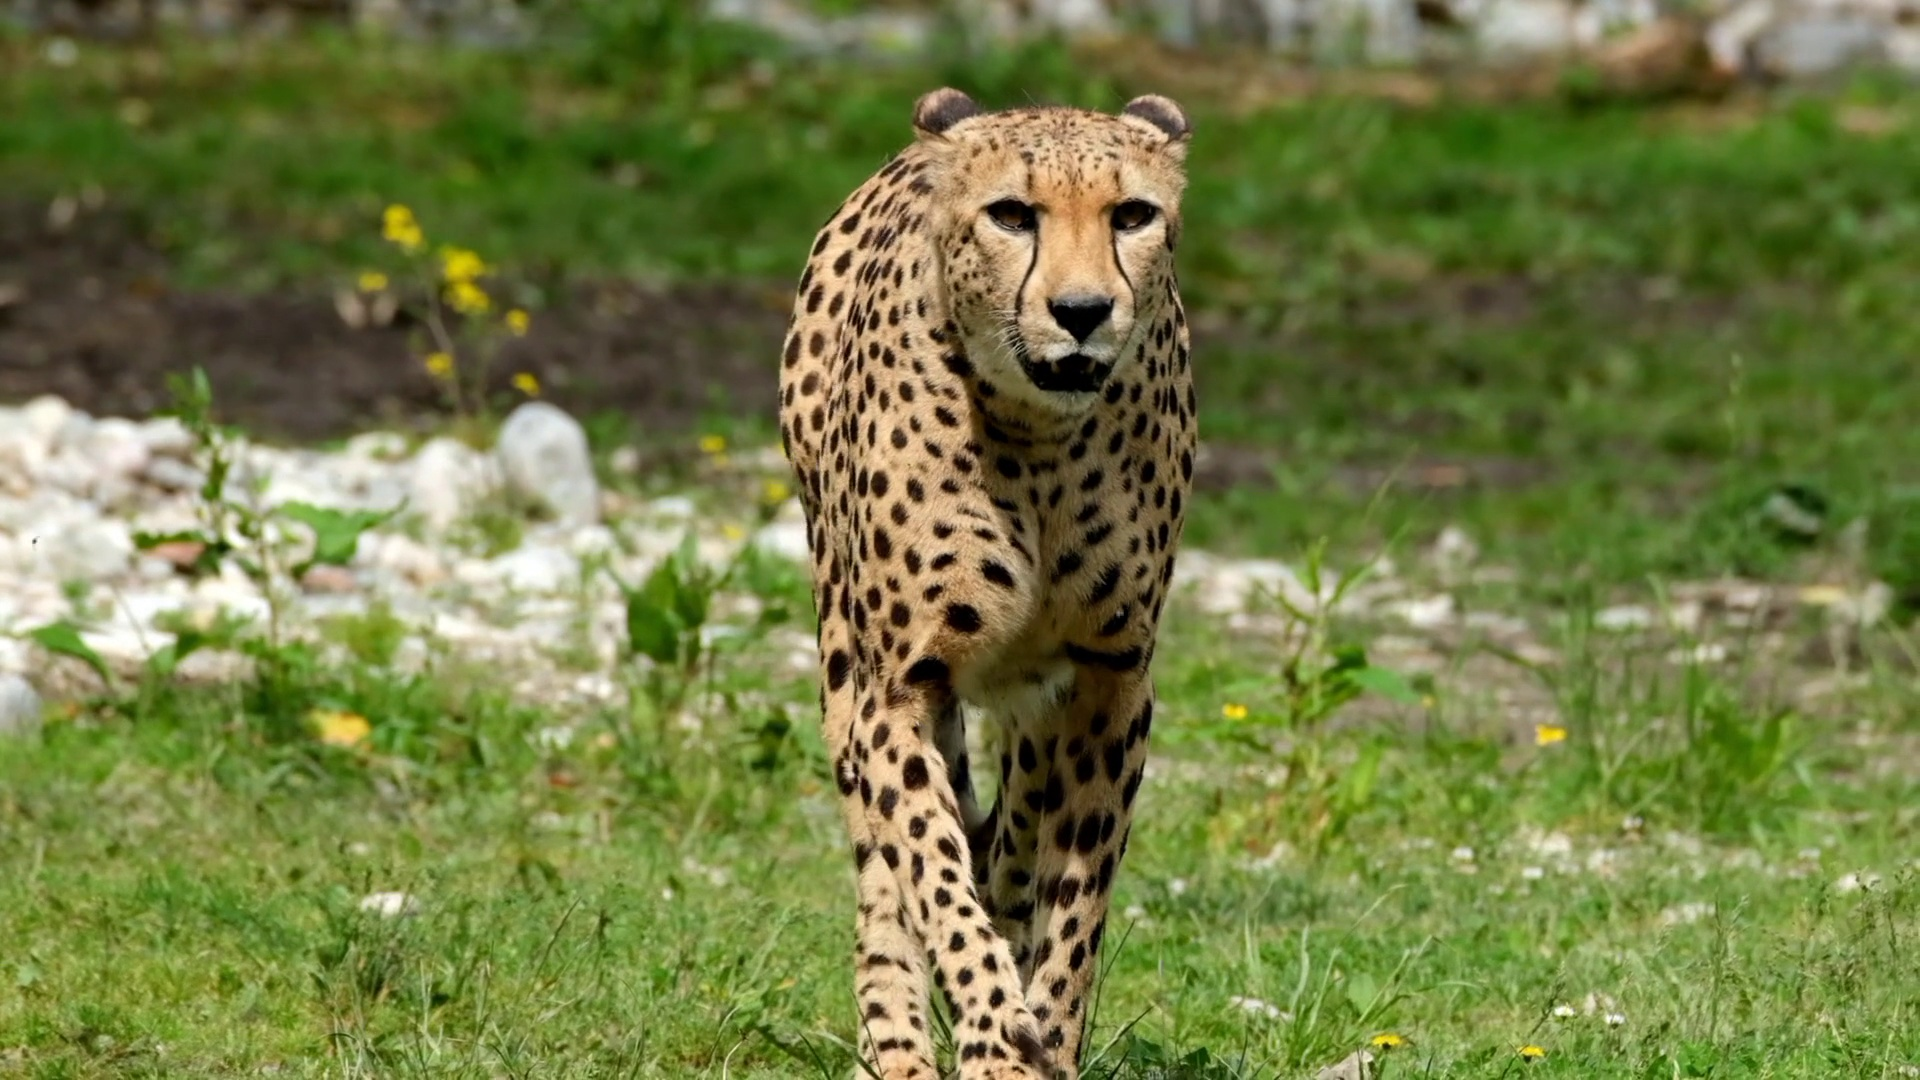Cheetah: (773, 84, 1203, 1080)
